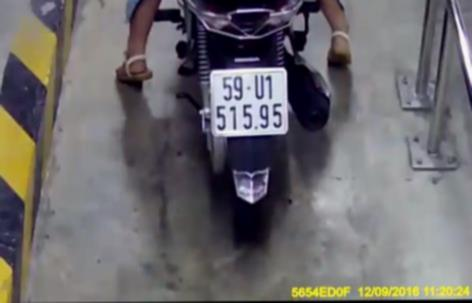License_Plate: (202, 60, 300, 139)
